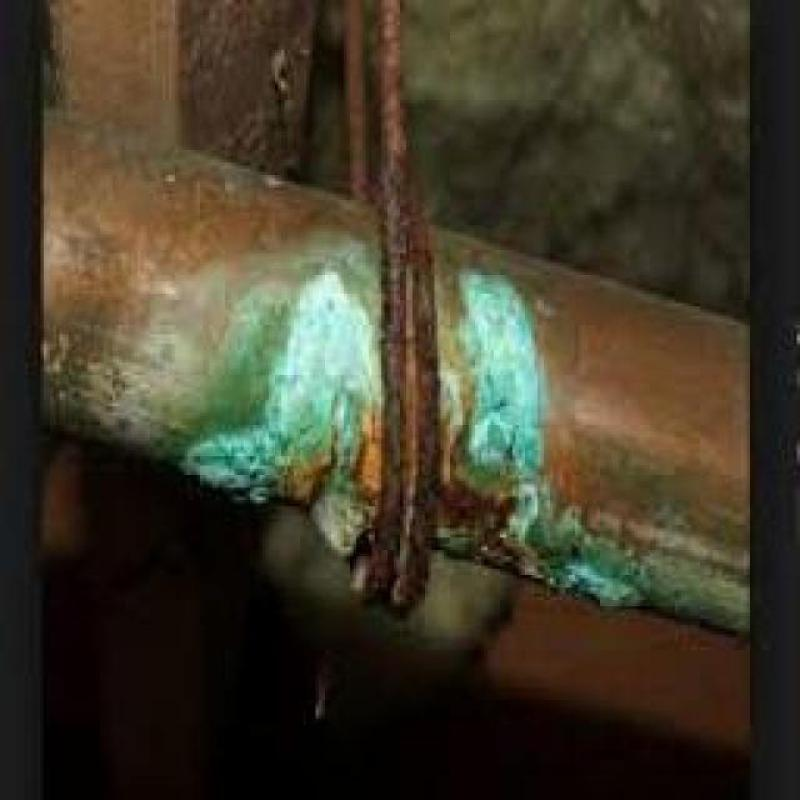corrosion: (362, 25, 448, 602), (198, 256, 368, 500), (461, 278, 556, 567)
